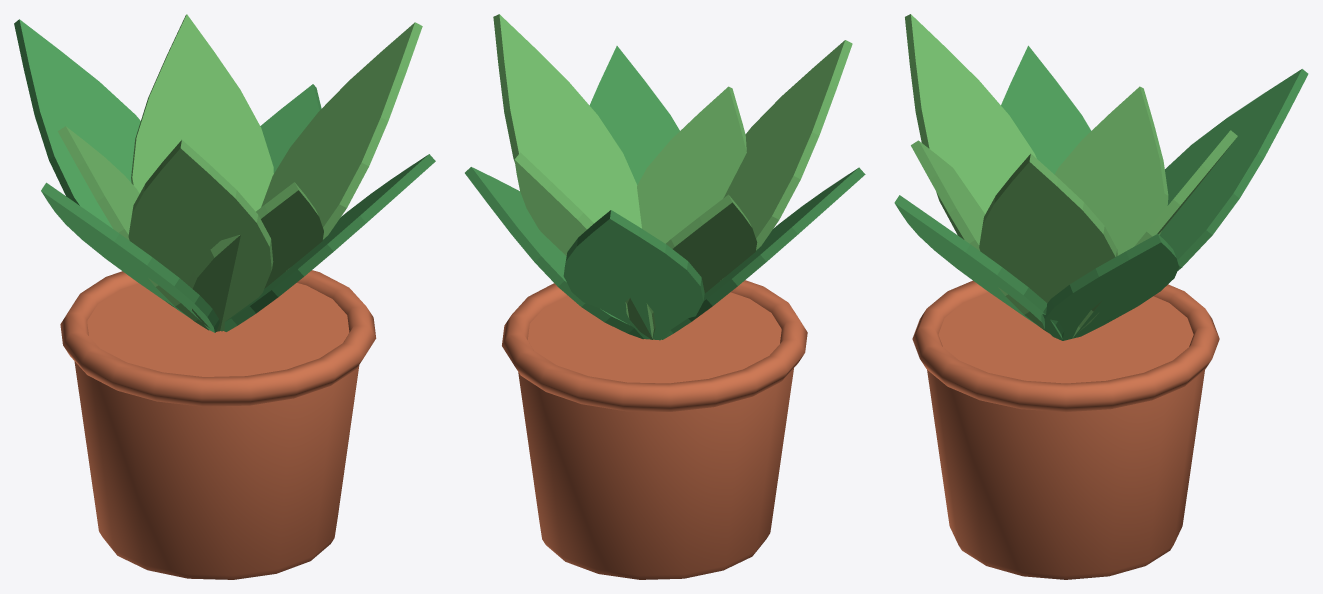
File: planta.glb
3 views of the same model, side by side, from view 1: azimuth 30°, elevation 25°; view 2: azimuth 150°, elevation 25°; view 3: azimuth 270°, elevation 25° (orthographic). The views are drawn at different scales.
Visible parts, largest first — view 1: planta; view 2: planta; view 3: planta.
Part boxes in pixels (x1=…): planta: x1=14, y1=14, x2=435, y2=579; planta: x1=465, y1=14, x2=865, y2=579; planta: x1=894, y1=14, x2=1308, y2=579.
Size of the model in its own units: 0.8913 by 1.07 by 0.8625.
